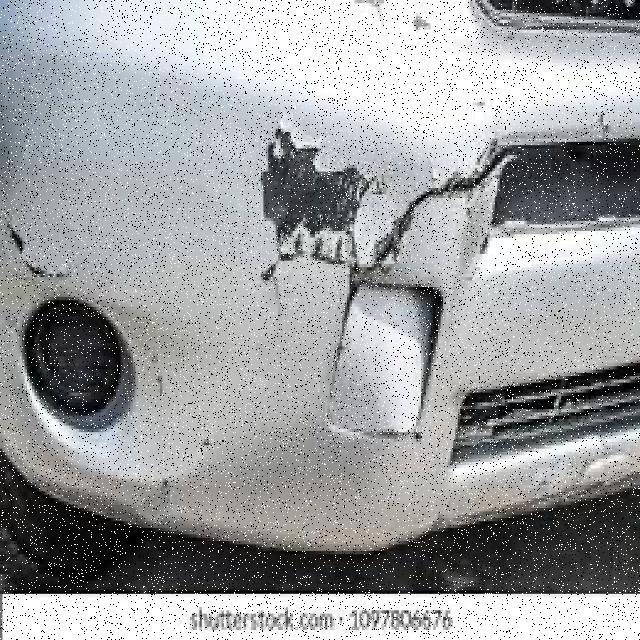front-bumper-dent: (0, 0, 592, 545)
